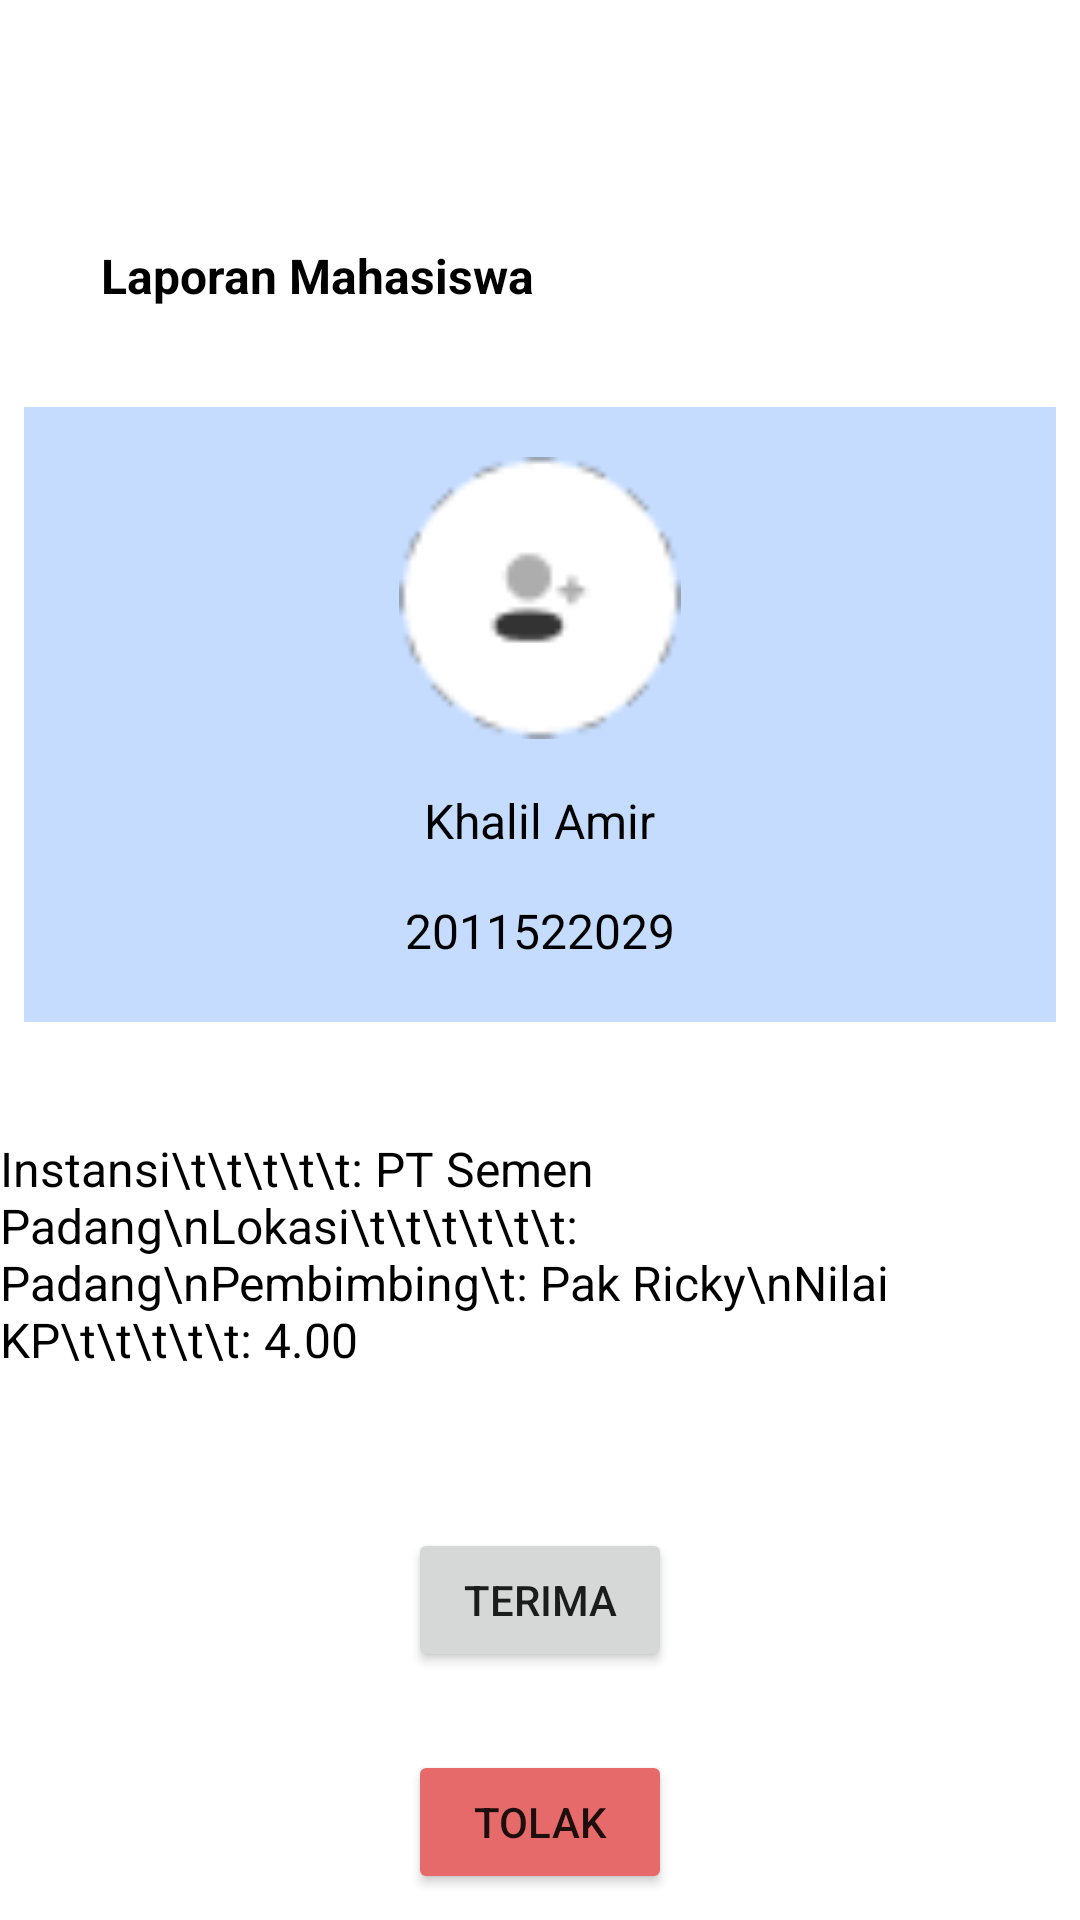

Screen size 1080 × 1920. Icon name, then its center in pixels as [x,y]:
profil: [540,598]
